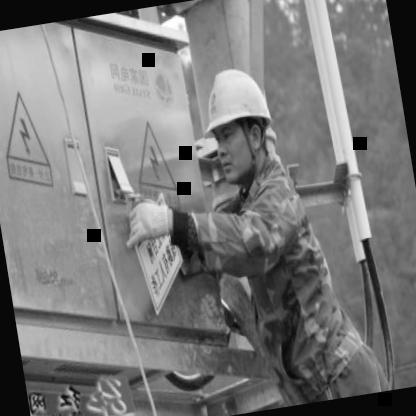helmet: (190, 50, 288, 199)
